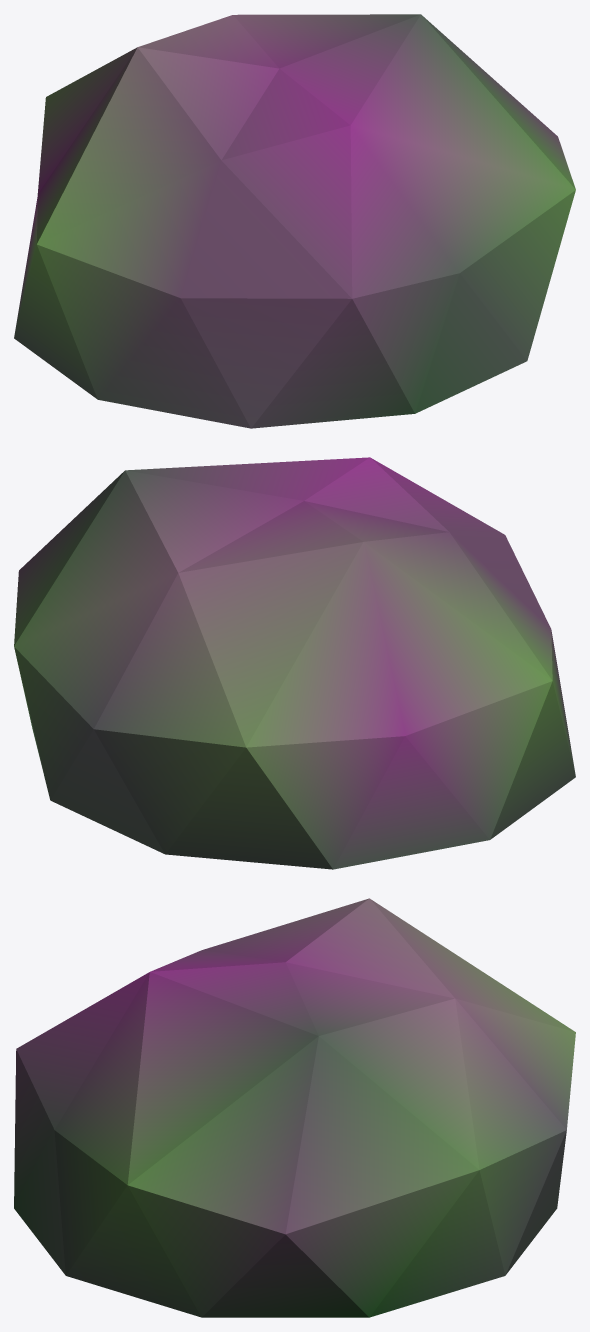
3 views of the same model, one above another, from view 1: azimuth 30°, elevation 25°; view 2: azimuth 150°, elevation 25°; view 3: azimuth 270°, elevation 25° (orthographic). The views are drawn at different scales.
Parts seen in each view (by area): view 1: Icosphere_2; view 2: Icosphere_2; view 3: Icosphere_2.
Boxes of the visible parts, x1,y1,x2,y2 form: Icosphere_2: (14, 14, 575, 428); Icosphere_2: (14, 457, 575, 869); Icosphere_2: (14, 898, 575, 1317).
Size of the model in its own units: 2 by 0.9719 by 1.87.
